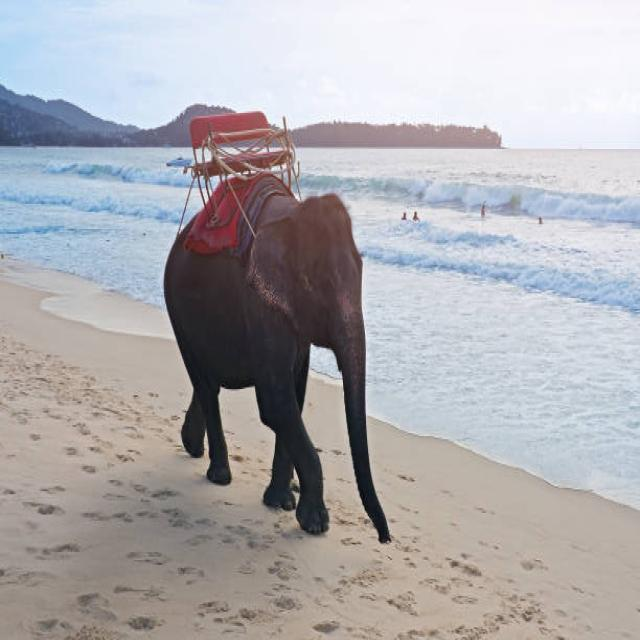Elephant: (158, 170, 400, 551)
